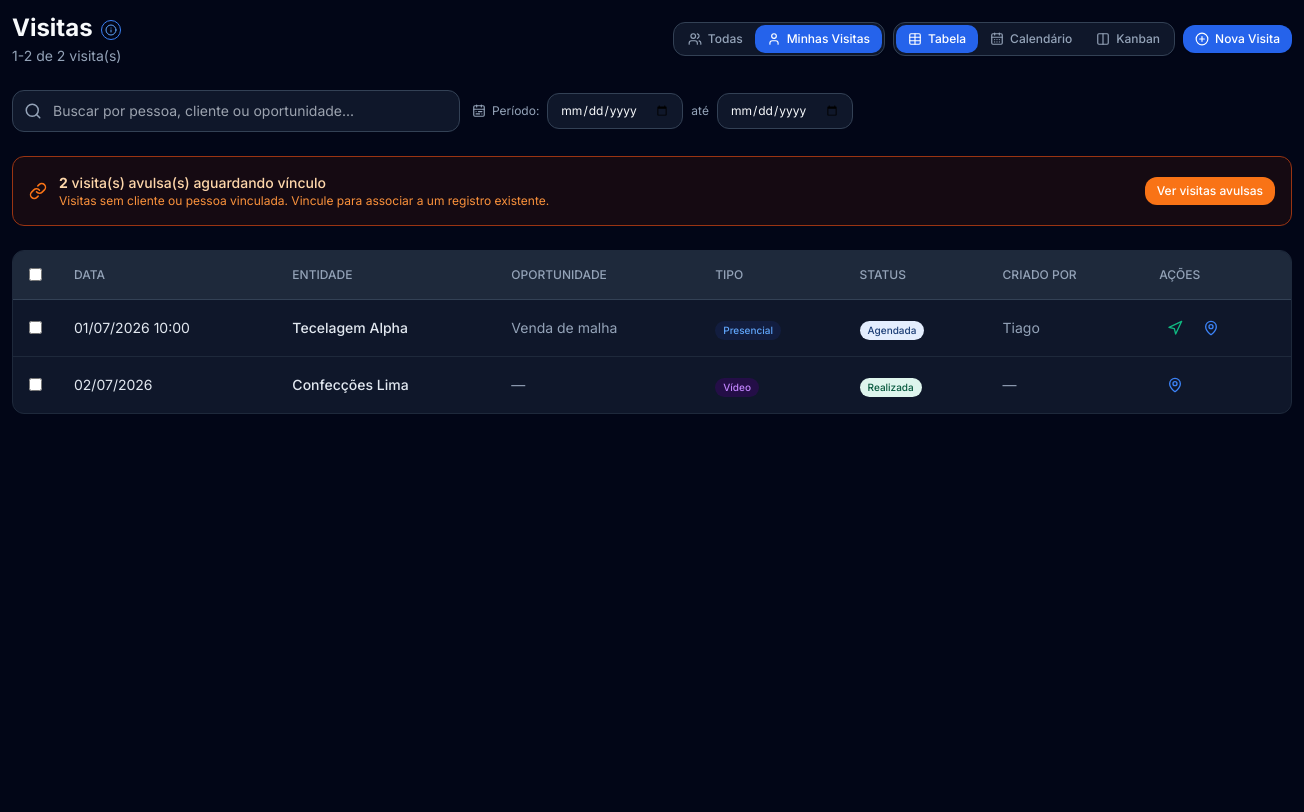
Test case: VisitasPage › alterna para o kanban
The image size is (1304, 812).
Expected: the link "Tecelagem Alpha" is shown, [292, 319, 408, 336]
Click the button "Kanban" at [1128, 39], box [1084, 25, 1172, 53]
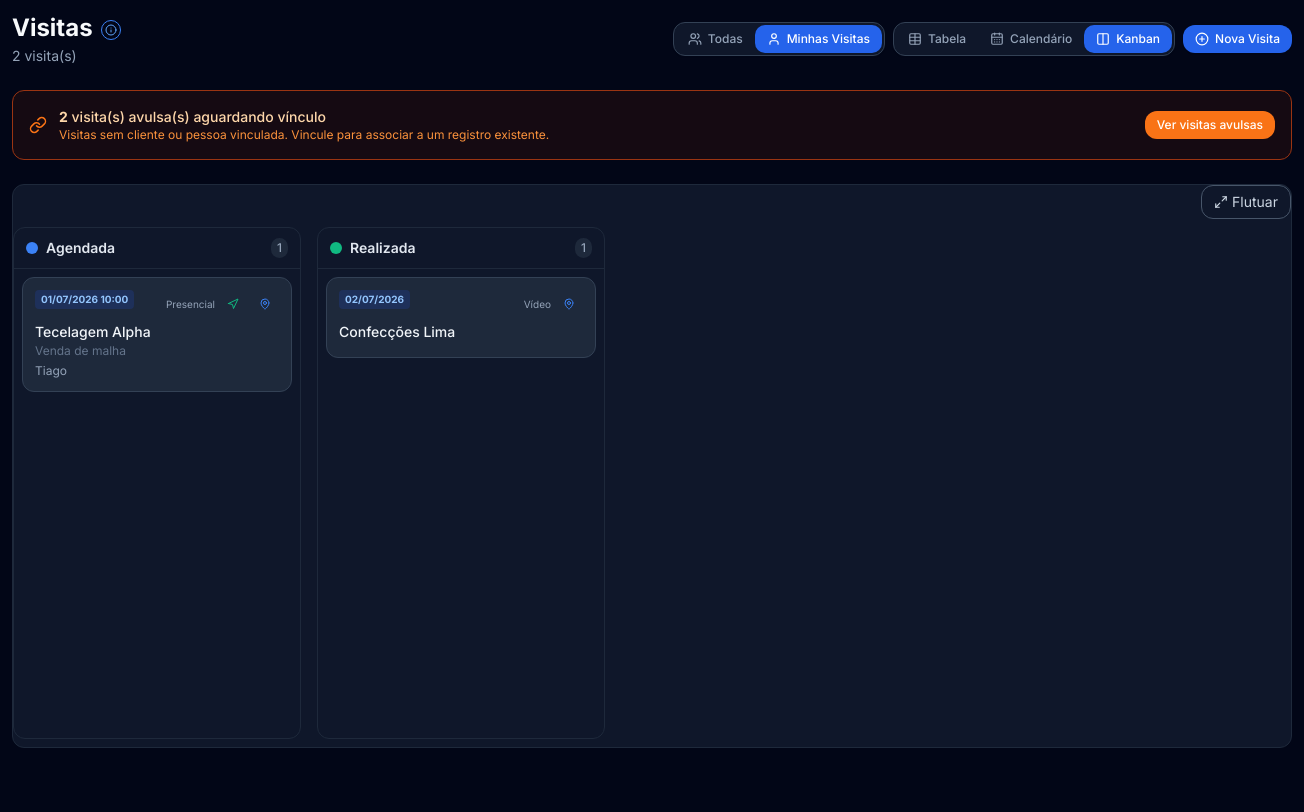
Expected: the text "Tecelagem Alpha" is shown, [35, 323, 151, 340]
Now the button "Flutuar" is shown, box [1201, 185, 1291, 219]
Now the table is gone
